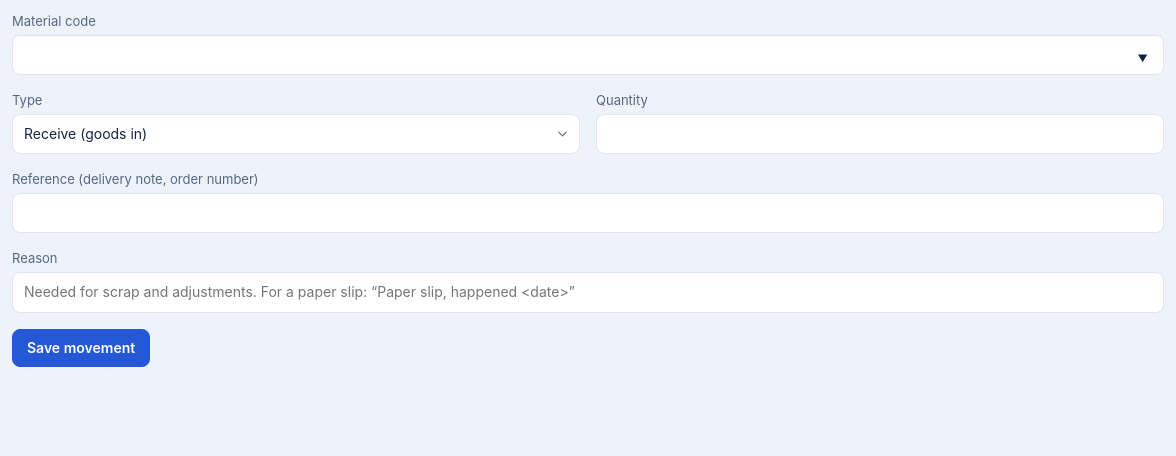
Test case: movement form › shows problems and does not save an empty form
The width and height of the screenshot is (1176, 456).
Click the button "Save movement" at (81, 348), box [12, 329, 150, 367]
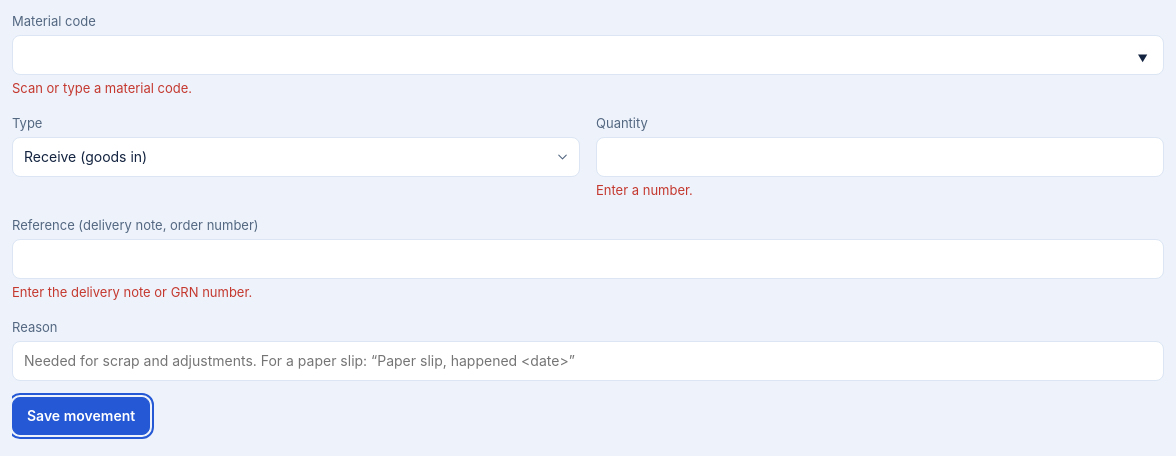
Now the text "Scan or type a material code." is shown, box [12, 80, 192, 96]
Now the text "Enter a number." is shown, box [596, 182, 693, 198]
